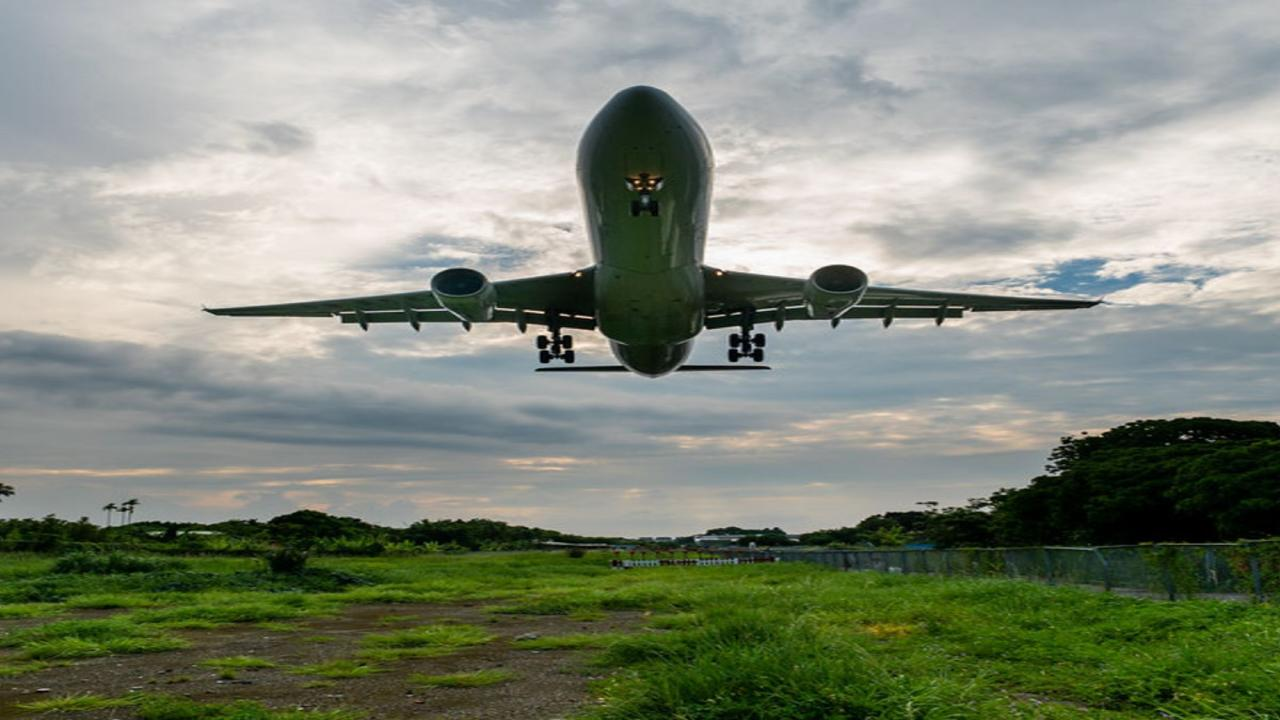Airplane: (193, 79, 1115, 386)
